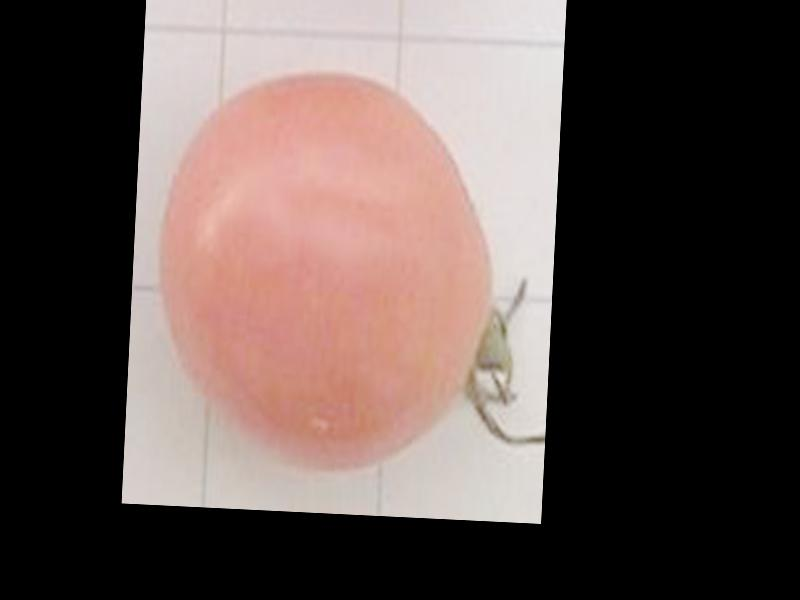Tomato: (149, 65, 502, 479)
